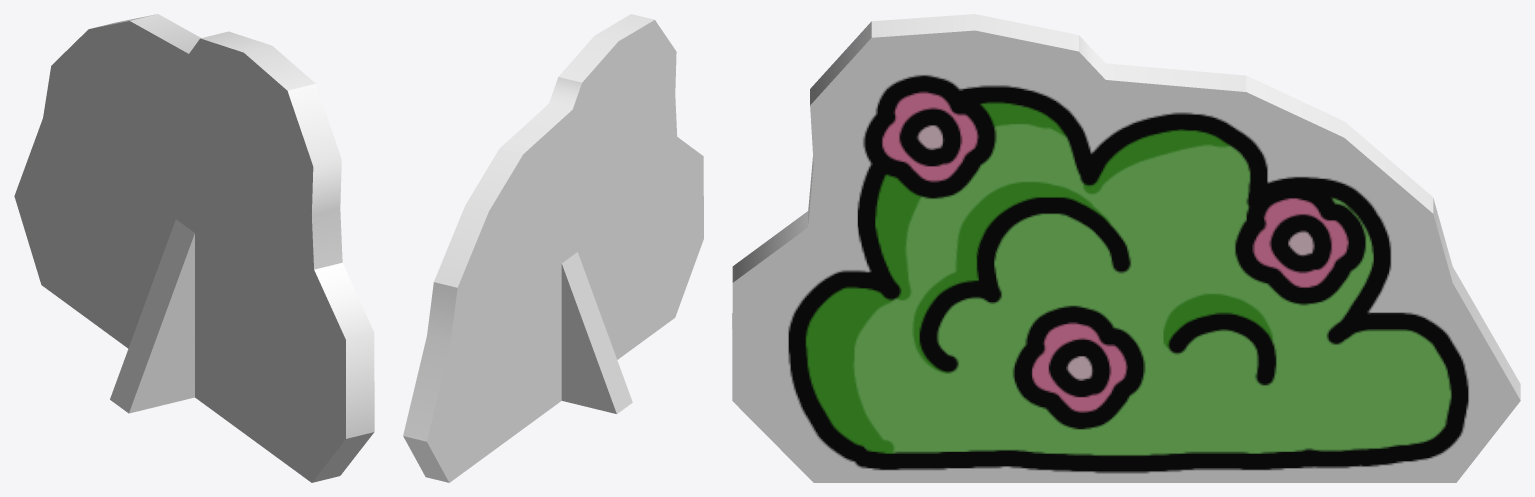
File: bush 1 flowers.fbx
3 views of the same model, side by side, from view 1: azimuth 30°, elevation 25°; view 2: azimuth 150°, elevation 25°; view 3: azimuth 270°, elevation 25° (orthographic). The views are drawn at different scales.
Parts seen in each view (by area): view 1: pCube2, pCube41; view 2: pCube2, pCube41; view 3: pCube2.
Part boxes in pixels (box(x1,y1,x2,y2)): pCube2: box(14, 14, 374, 482); pCube41: box(110, 219, 194, 413); pCube2: box(403, 14, 703, 482); pCube41: box(561, 252, 632, 413); pCube2: box(732, 14, 1520, 482).
Size of the model in its own units: 1.43 by 5.51 by 8.7.
